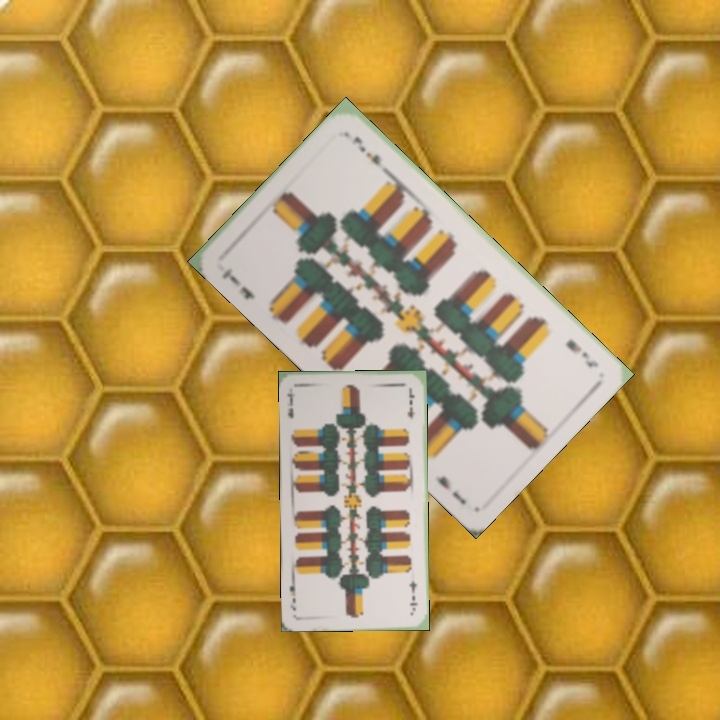E7: (217, 263, 258, 302), (561, 335, 601, 371), (405, 577, 420, 613), (283, 389, 297, 420)
